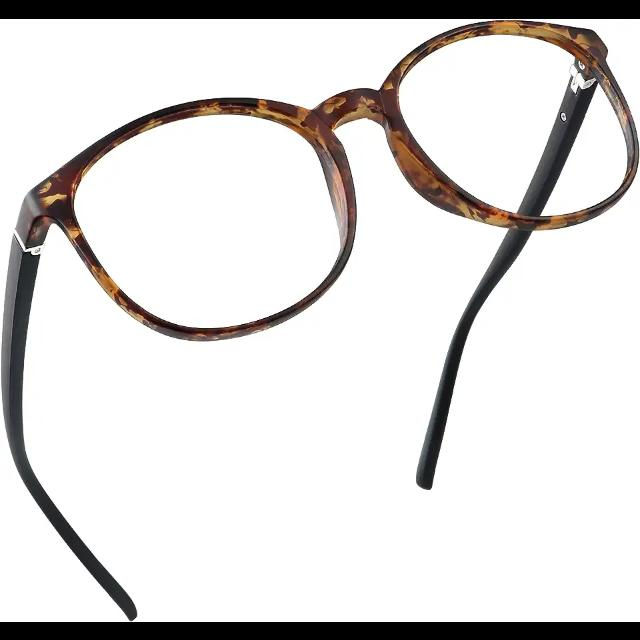glasses: (11, 30, 626, 350)
